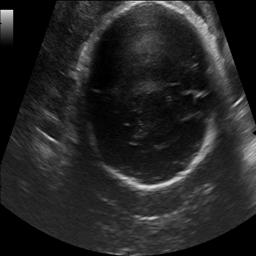normal: (78, 3, 223, 194)
